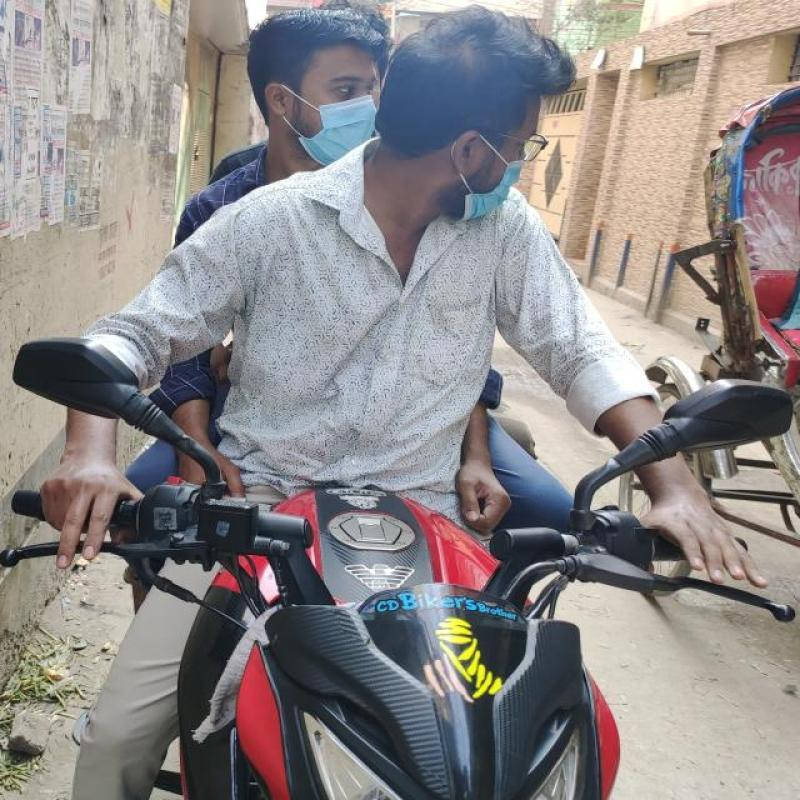nohelmet: (384, 13, 586, 223), (228, 7, 378, 172)
